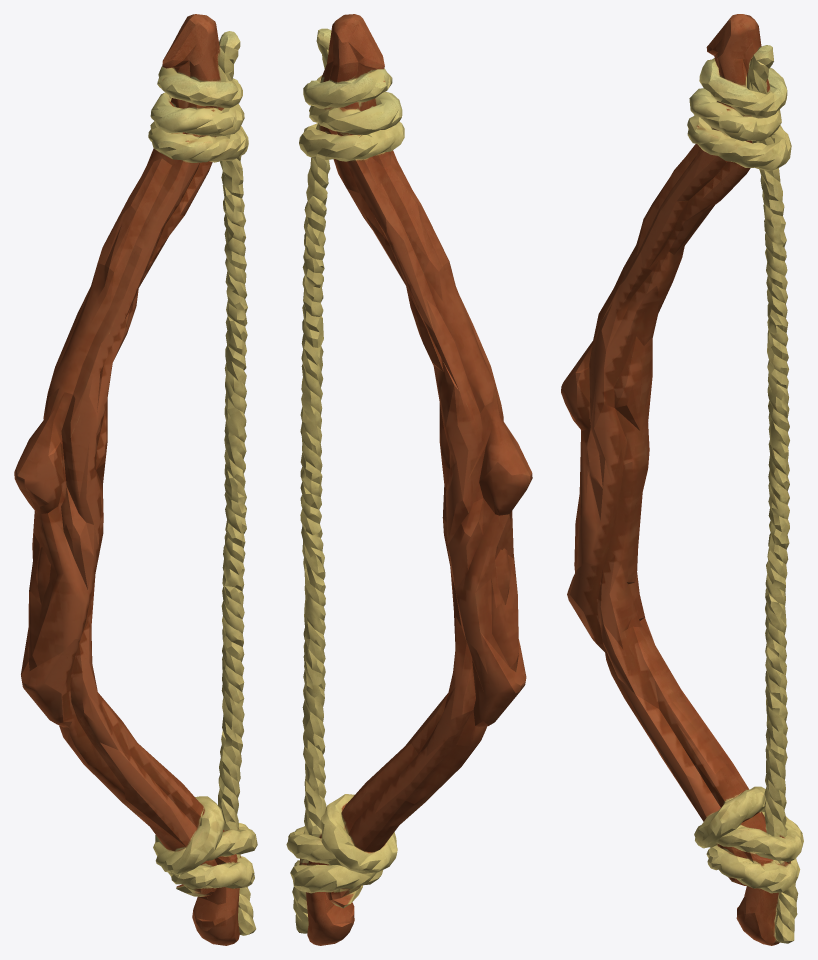
Rendered from Meshy_AI_Wooden_Bow_1015223630_texture.fbx.
3 views of the same model, side by side, from view 1: azimuth 30°, elevation 25°; view 2: azimuth 150°, elevation 25°; view 3: azimuth 330°, elevation 25° (orthographic).
Parts seen in each view (by area): view 1: output_unwrapped; view 2: output_unwrapped; view 3: output_unwrapped.
Part boxes in pixels (x1=…): output_unwrapped: x1=14, y1=14, x2=257, y2=945; output_unwrapped: x1=286, y1=14, x2=532, y2=945; output_unwrapped: x1=561, y1=14, x2=803, y2=945.
Bounding box in the file's own units: 50.69 × 190 × 16.73.
1 material, 1 textured.
